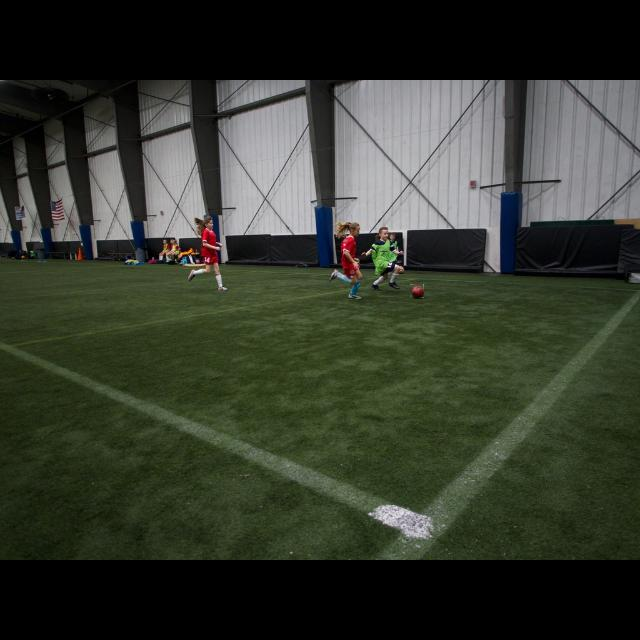Football: (410, 284, 424, 298)
